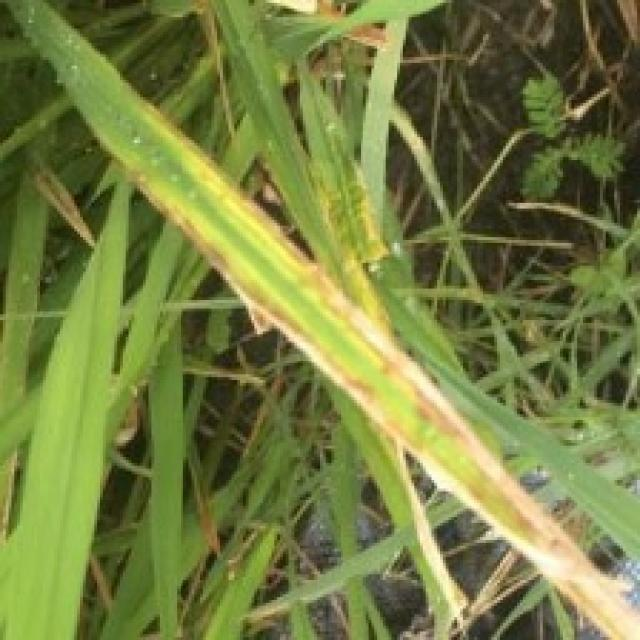Rice___Bacterial_Leaf_Blight: (0, 0, 637, 637)
